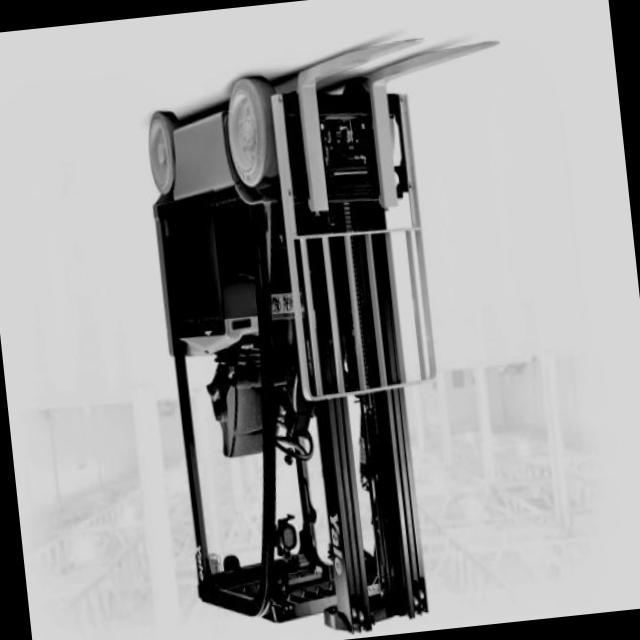forklift: (125, 3, 478, 640)
